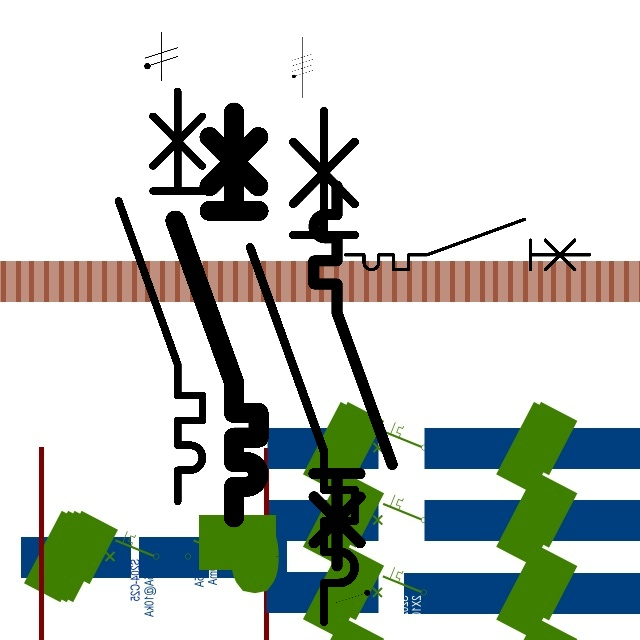interruptor_termomagnetico: (237, 97, 368, 634), (108, 80, 213, 511), (165, 102, 269, 528), (304, 176, 402, 575), (339, 213, 596, 276)
